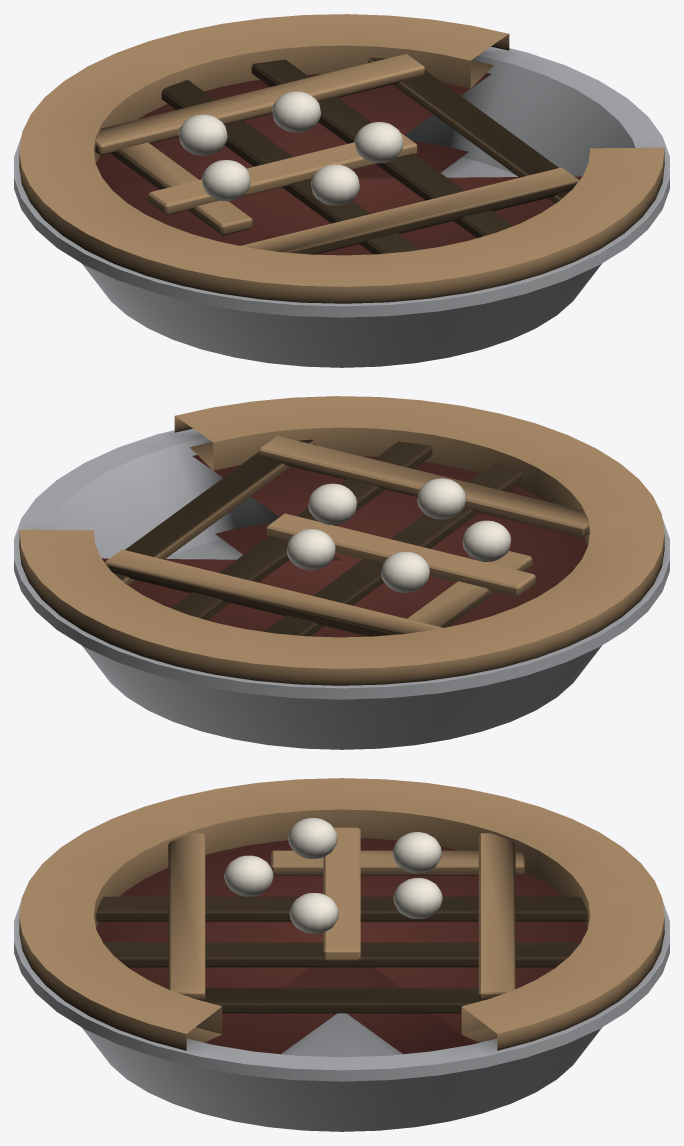
Rendered from meal_pie.glb.
3 renders of one model, top to bottom at view 1: azimuth 30°, elevation 25°; view 2: azimuth 150°, elevation 25°; view 3: azimuth 270°, elevation 25°, orthographic.
Visible parts, largest first — view 1: PART; view 2: PART; view 3: PART.
Part boxes in pixels (x1,y1,x2,y2): PART: (14, 14, 669, 367); PART: (14, 396, 669, 749); PART: (14, 778, 669, 1131).
Size of the model in its own units: 0.2798 by 0.0671 by 0.2791.
